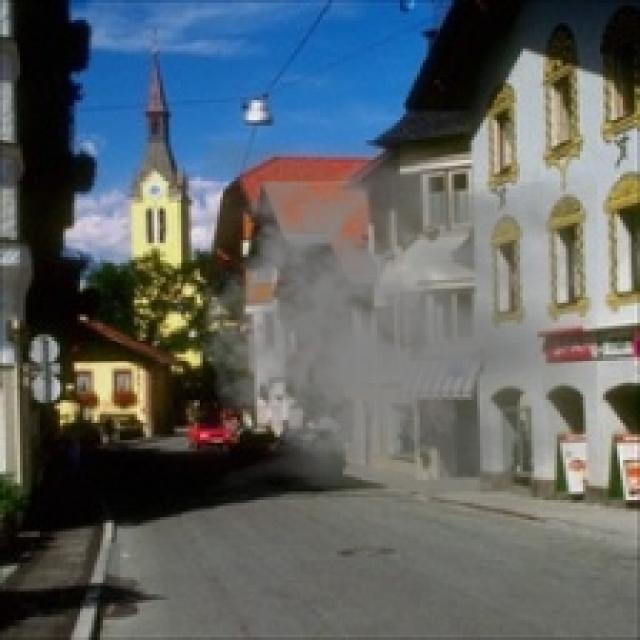Smoke: (192, 140, 597, 514)
